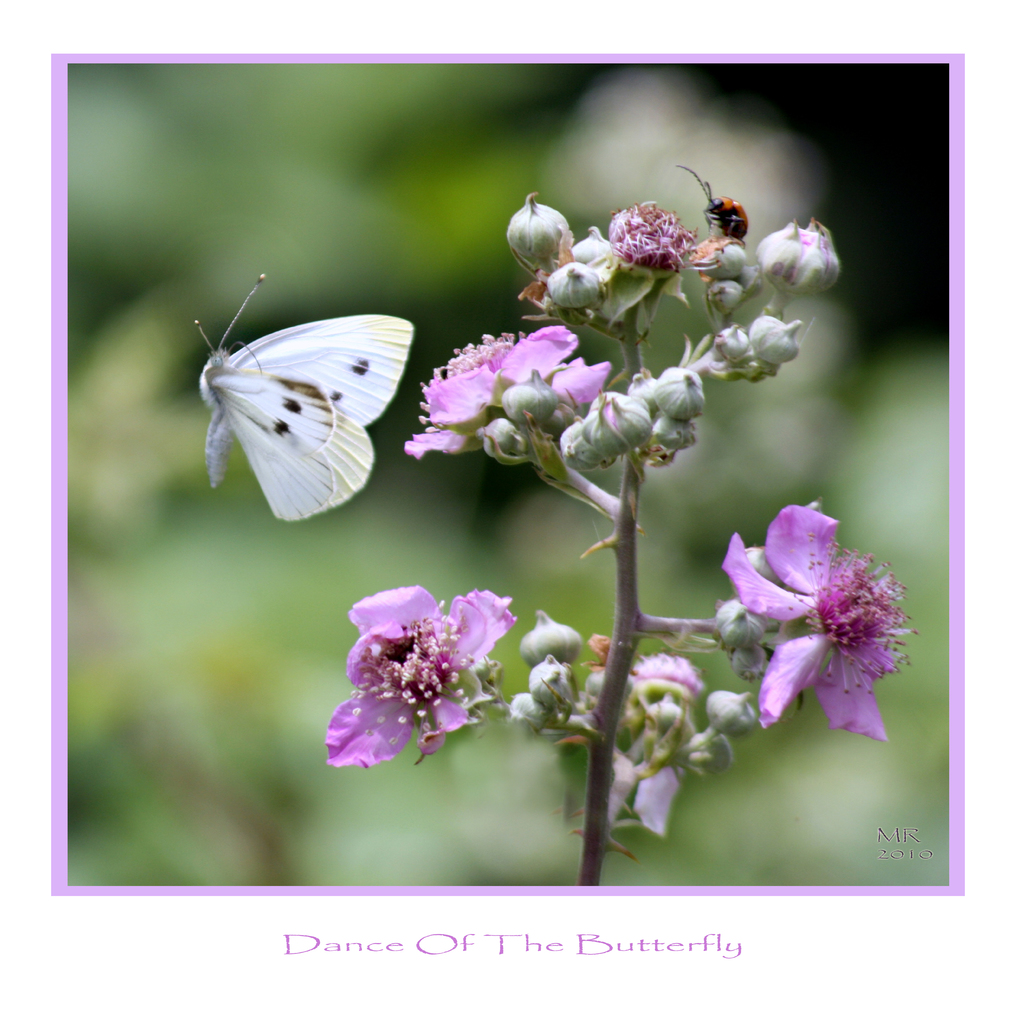Butterfly: (170, 270, 422, 530)
